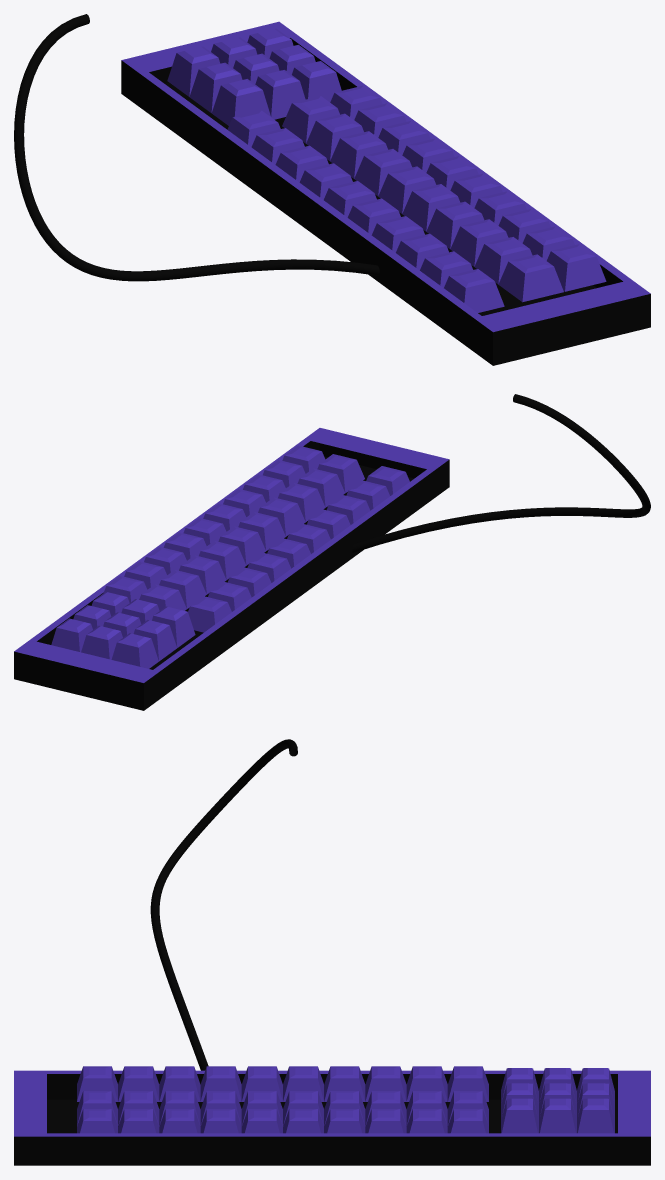
Rendered from pcTeclado.fbx.
The picture shows the model from 3 angles, top to bottom: view 1: azimuth 30°, elevation 25°; view 2: azimuth 150°, elevation 25°; view 3: azimuth 270°, elevation 25°; orthographic projection. The views are drawn at different scales.
Visible parts, largest first — view 1: Cube.004, NurbsPath; view 2: Cube.004, NurbsPath; view 3: Cube.004, NurbsPath.
Boxes of the visible parts, <box> form: Cube.004: <box>121,21,650,365</box>; NurbsPath: <box>14,14,379,281</box>; Cube.004: <box>14,428,449,710</box>; NurbsPath: <box>352,394,650,552</box>; Cube.004: <box>14,1066,650,1165</box>; NurbsPath: <box>150,739,297,1070</box>.
Bounding box in the file's own units: 338 × 185 × 427.
